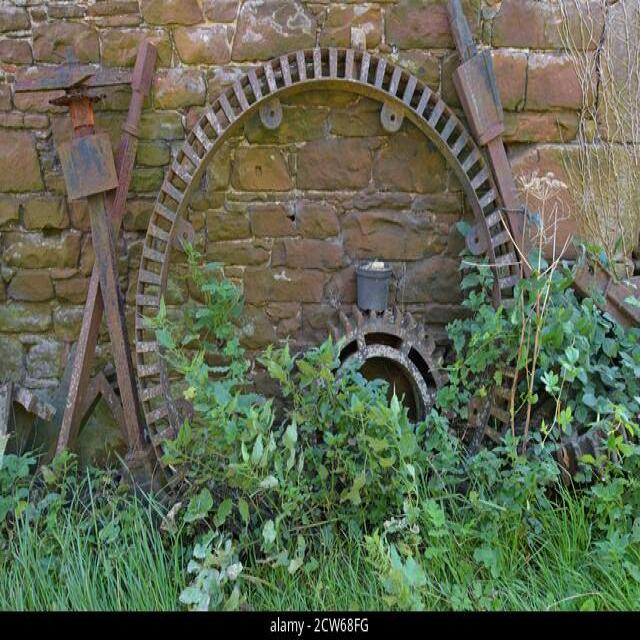Gear: (304, 304, 454, 484)
